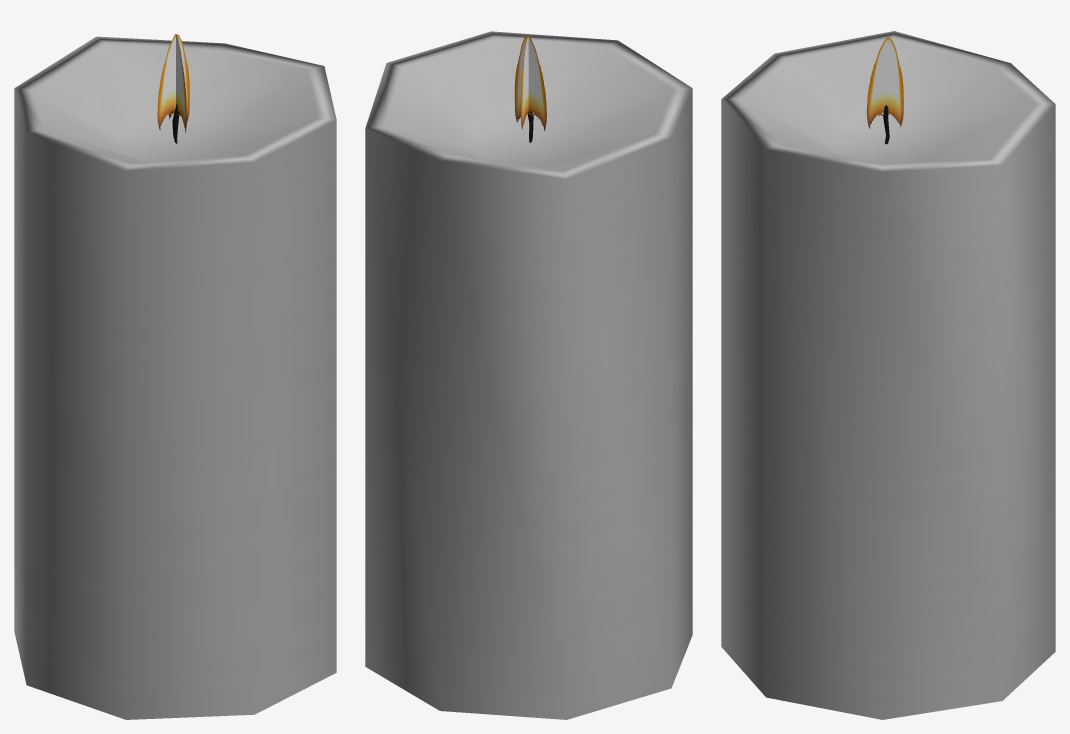
Rendered from candleBig.glb.
The picture shows the model from 3 angles, left to right: view 1: azimuth 30°, elevation 25°; view 2: azimuth 150°, elevation 25°; view 3: azimuth 270°, elevation 25°; orthographic projection.
Visible parts, largest first — view 1: candleBig; view 2: candleBig; view 3: candleBig.
Boxes of the visible parts, x1=… form: candleBig: x1=14, y1=34, x2=336, y2=719; candleBig: x1=365, y1=31, x2=692, y2=719; candleBig: x1=721, y1=31, x2=1055, y2=719.
Size of what is drawn, in the model's own units: 0.1475 by 0.302 by 0.1475.
Materials: 2 (2 with a texture image).
